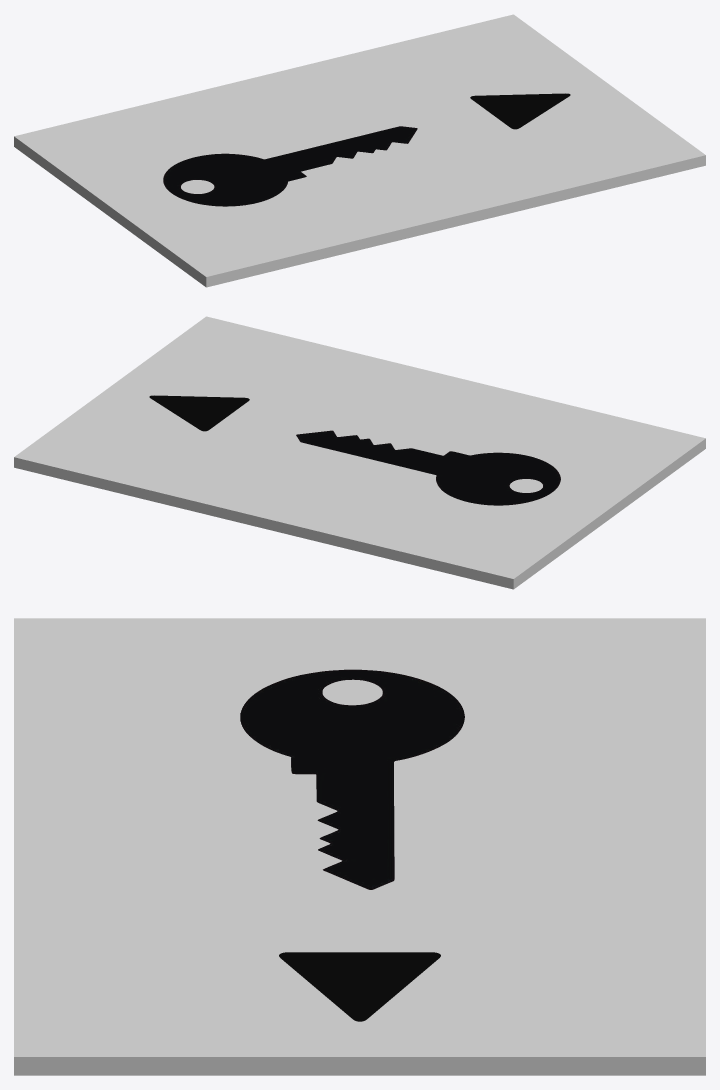
File: idcard.fbx
The picture shows the model from 3 angles, top to bottom: view 1: azimuth 30°, elevation 25°; view 2: azimuth 150°, elevation 25°; view 3: azimuth 270°, elevation 25°; orthographic projection. The views are drawn at different scales.
Visible parts, largest first — view 1: Cube, 360_F_685369867_Zatcy7M7y6rKjGvDRoE8vxbCppN42j80-removebg-pr, Plane; view 2: Cube, 360_F_685369867_Zatcy7M7y6rKjGvDRoE8vxbCppN42j80-removebg-pr, Plane; view 3: Cube, 360_F_685369867_Zatcy7M7y6rKjGvDRoE8vxbCppN42j80-removebg-pr, Plane.
Boxes of the visible parts, bbox=[...] form: Cube: bbox=[14, 14, 705, 287]; 360_F_685369867_Zatcy7M7y6rKjGvDRoE8vxbCppN42j80-removebg-pr: bbox=[163, 126, 417, 206]; Plane: bbox=[470, 93, 570, 129]; Cube: bbox=[14, 316, 705, 589]; 360_F_685369867_Zatcy7M7y6rKjGvDRoE8vxbCppN42j80-removebg-pr: bbox=[296, 430, 560, 505]; Plane: bbox=[149, 395, 249, 431]; Cube: bbox=[14, 618, 705, 1075]; 360_F_685369867_Zatcy7M7y6rKjGvDRoE8vxbCppN42j80-removebg-pr: bbox=[240, 669, 464, 889]; Plane: bbox=[279, 952, 440, 1021].
Bounding box in the file's own units: 3 × 2 × 0.0622.
3 materials, 1 textured.
